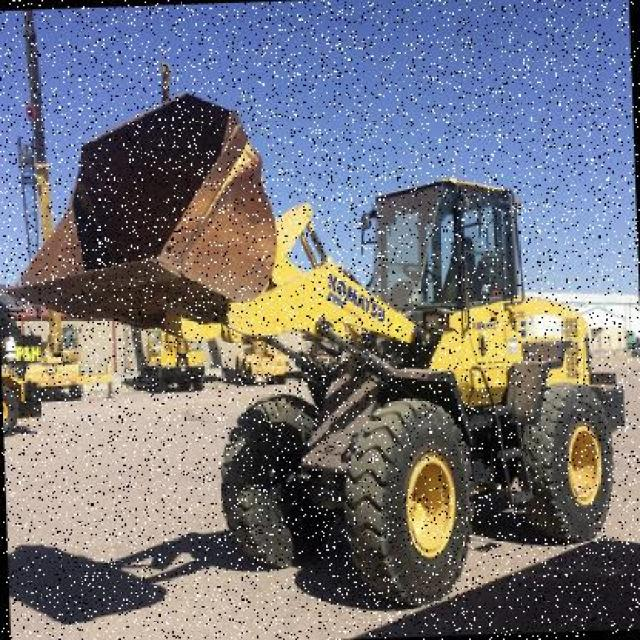buldozerpayloadergrader: (26, 69, 625, 617)
